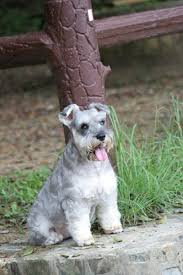dog: (54, 103, 126, 168)
